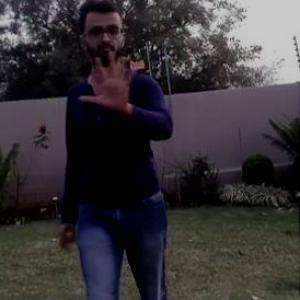follow_hand: (77, 48, 138, 115)
